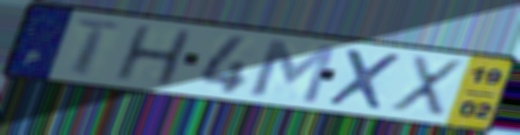4: (197, 33, 249, 95)
H: (110, 23, 196, 88)
M: (247, 36, 340, 106)
T: (70, 16, 125, 78)
X: (386, 53, 467, 121), (323, 46, 405, 113)
